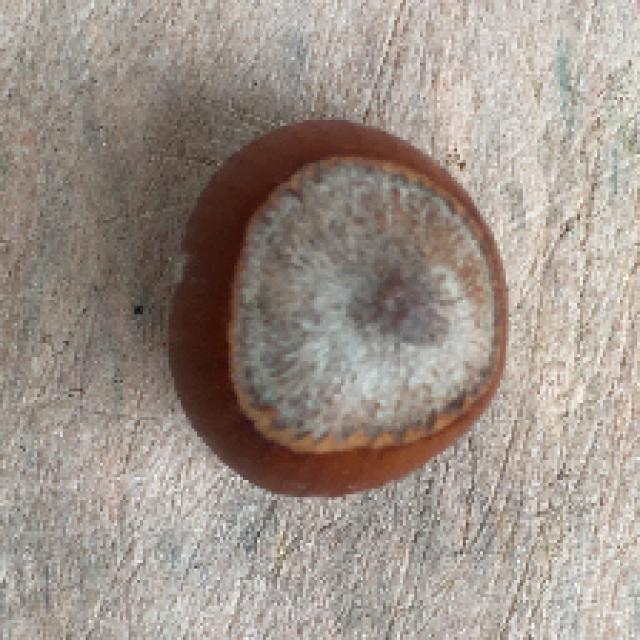QualityHazelnut: (162, 110, 512, 500)
